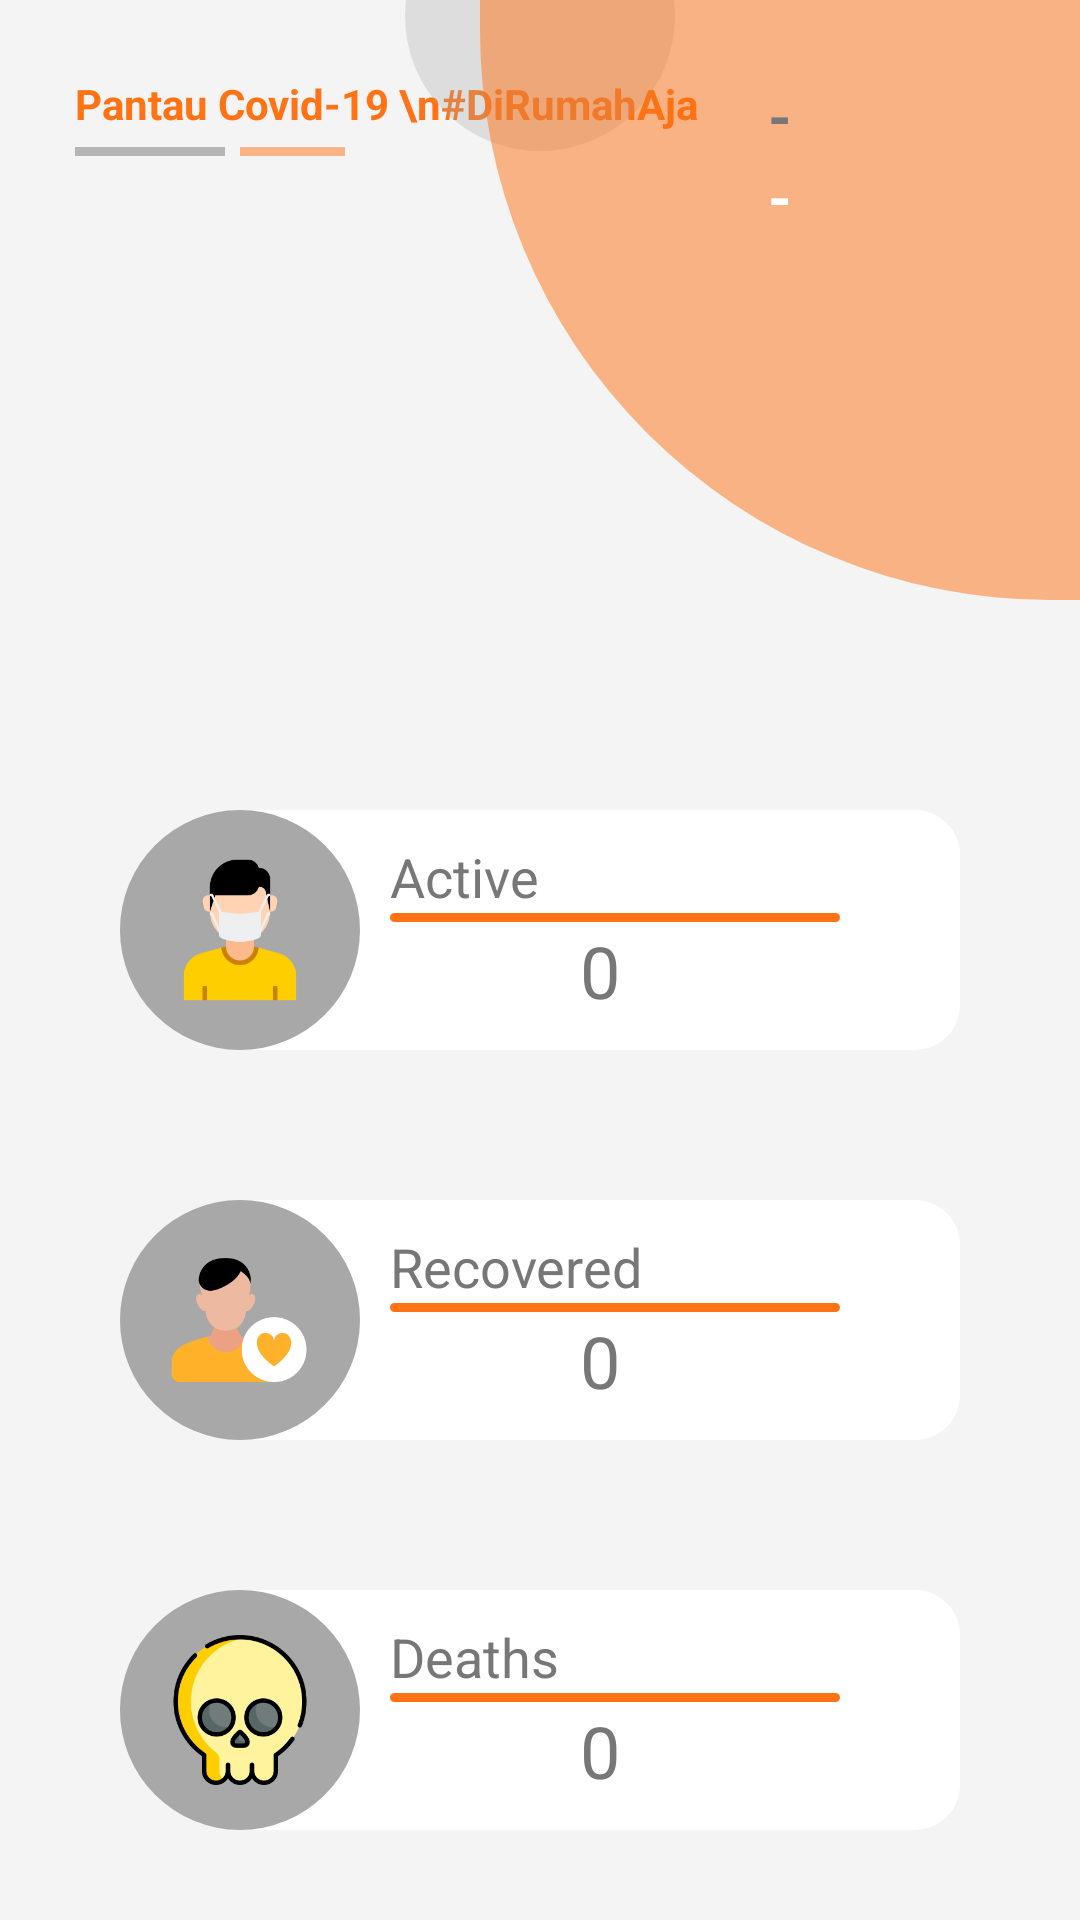

Screen size 1080 x 1920. Icon name, then its box in pixels as (x1, y1, x2, y2):
patient: (184, 859, 296, 1001), (171, 1258, 307, 1382)
skull: (173, 1635, 307, 1785)
